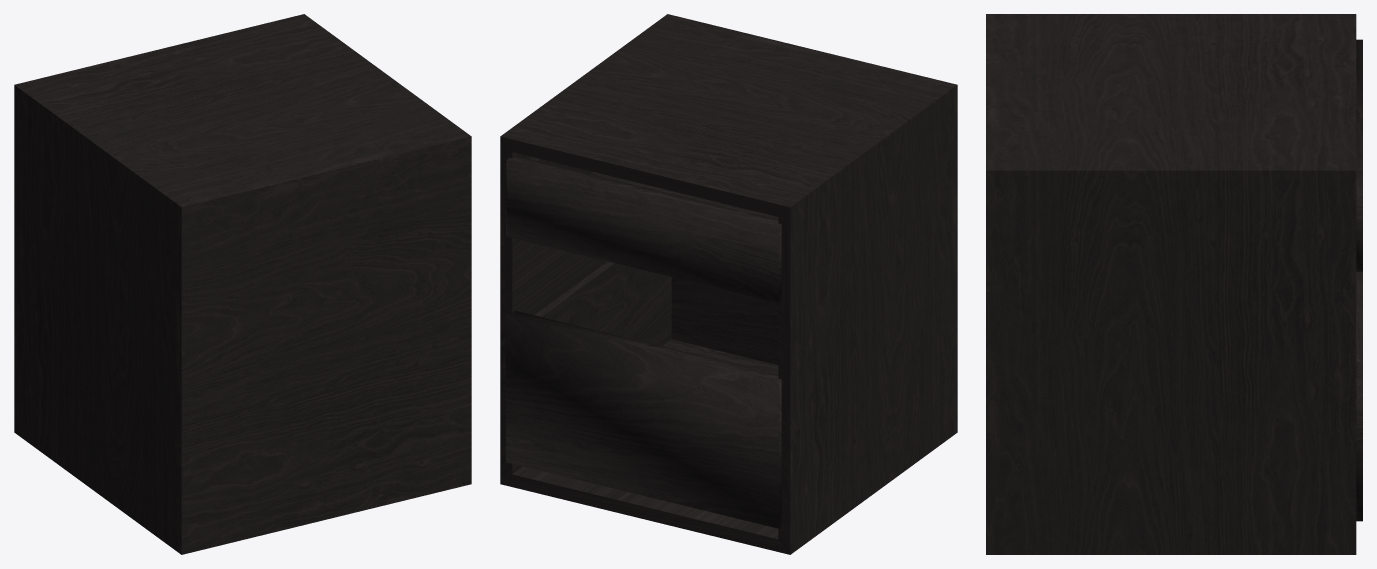
Rendered from Table_DrawerSmall_Openable_COL.FBX.
3 renders of one model, left to right at view 1: azimuth 30°, elevation 25°; view 2: azimuth 150°, elevation 25°; view 3: azimuth 270°, elevation 25°, orthographic. The views are drawn at different scales.
Parts seen in each view (by area): view 1: Table_DrawerSmall_Openable_COL; view 2: Table_DrawerSmall_Openable_COL, Drawer_Large_COL, Drawer_Small_A_COL; view 3: Table_DrawerSmall_Openable_COL, Drawer_Large_COL, Drawer_Small_A_COL.
Boxes of the visible parts, left/top/right/bottom form: Table_DrawerSmall_Openable_COL: left=14, top=14, right=471, bottom=554; Table_DrawerSmall_Openable_COL: left=500, top=14, right=957, bottom=554; Drawer_Large_COL: left=506, top=261, right=781, bottom=528; Drawer_Small_A_COL: left=506, top=156, right=781, bottom=302; Table_DrawerSmall_Openable_COL: left=986, top=14, right=1356, bottom=554; Drawer_Large_COL: left=1356, top=271, right=1362, bottom=521; Drawer_Small_A_COL: left=1356, top=39, right=1362, bottom=271.
Bounding box in the file's own units: 66.99 × 76.71 × 68.16.
1 material, 1 textured.
